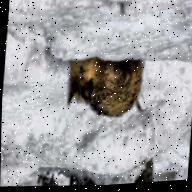boar: (63, 53, 148, 124)
